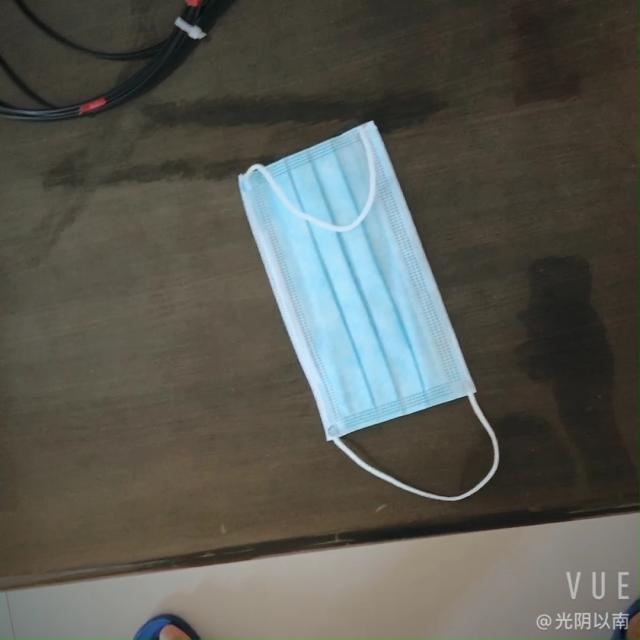face mask: (218, 120, 486, 469)
